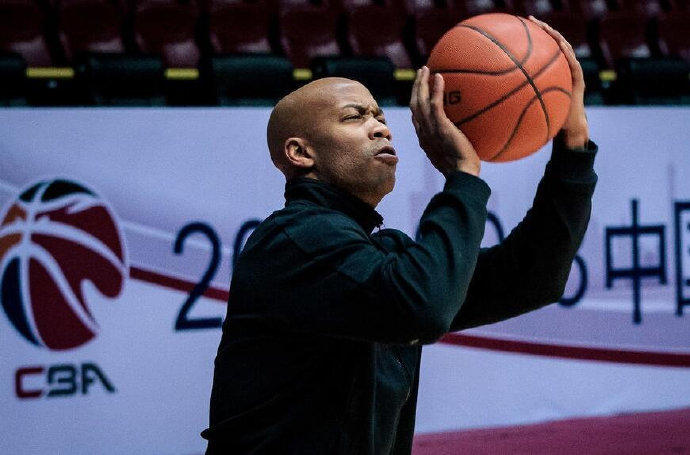ball: (424, 13, 574, 164)
